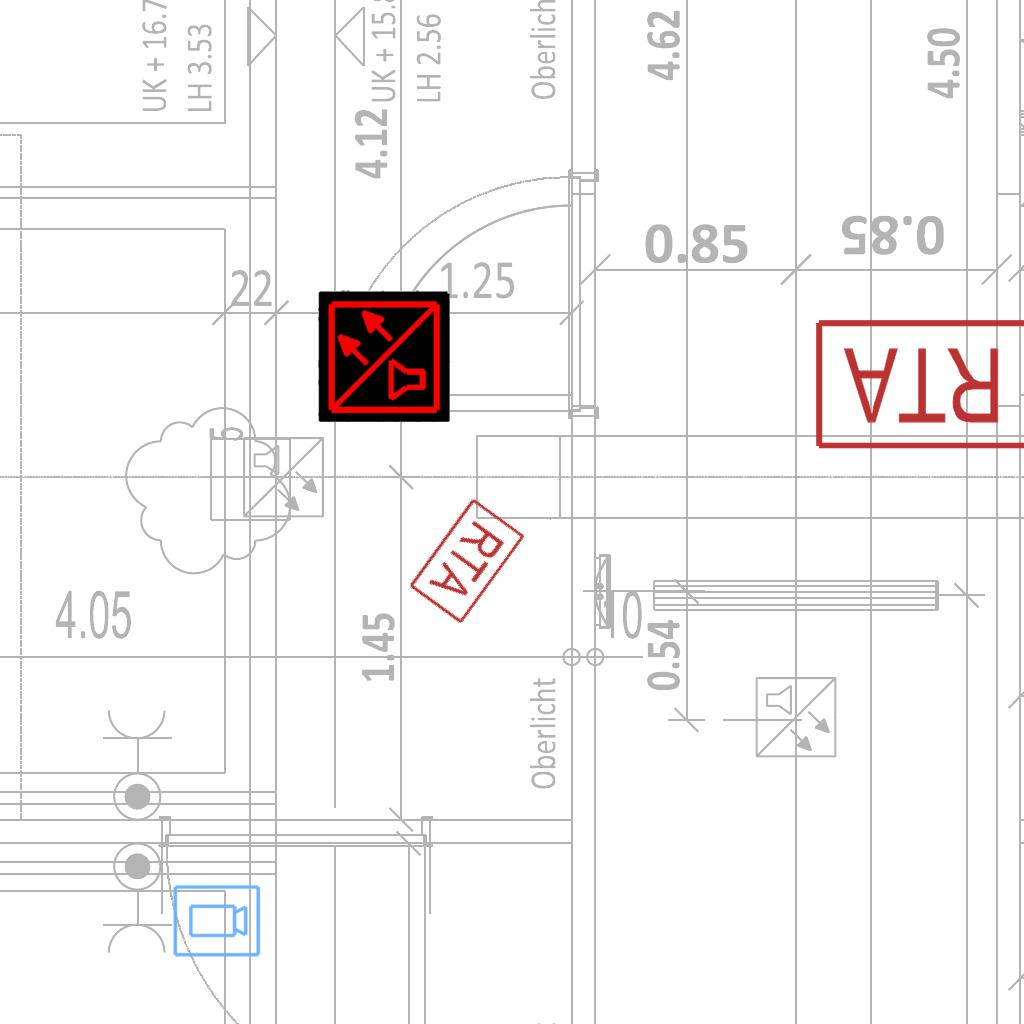KFO_Kamera_mit_Festobjektiv: (171, 883, 262, 960)
OKW_Multisensormelder_(Kombination_optischer_Rauch-Kahlenmonoxid_Waerme-Melder): (318, 290, 450, 422)
Ruf-und_Abstelltaster: (813, 315, 1024, 453), (406, 493, 529, 627)
